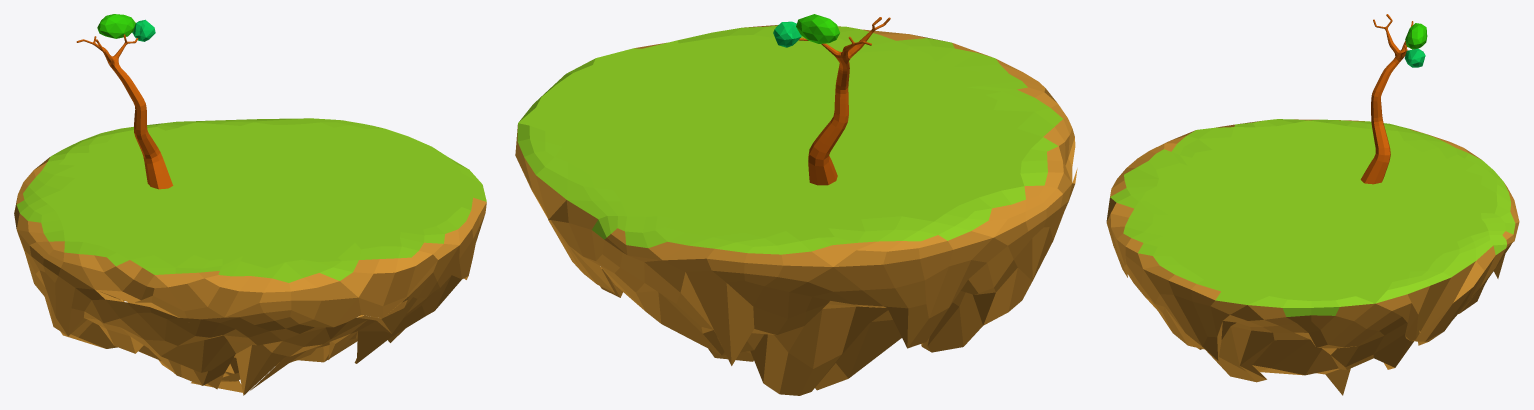
Rendered from floatingworld.gltf.
3 renders of one model, left to right at view 1: azimuth 30°, elevation 25°; view 2: azimuth 150°, elevation 25°; view 3: azimuth 270°, elevation 25°, orthographic. The views are drawn at different scales.
Parts seen in each view (by area): view 1: Icosphere, Cube.001, Icosphere.003; view 2: Icosphere, Cube.001, Icosphere.003, Icosphere.001; view 3: Icosphere, Cube.001, Icosphere.003.
Part boxes in pixels (x1,y1,x2,y2): Icosphere: (14,118,486,395); Cube.001: (76,34,173,189); Icosphere.003: (97,14,135,38); Icosphere: (515,25,1077,395); Cube.001: (799,17,890,185); Icosphere.003: (796,14,839,43); Icosphere.001: (773,21,801,47); Icosphere: (1106,119,1519,395); Cube.001: (1360,14,1413,184); Icosphere.003: (1405,23,1427,49).
Bounding box in the file's own units: 11.38 × 9.04 × 10.78.
